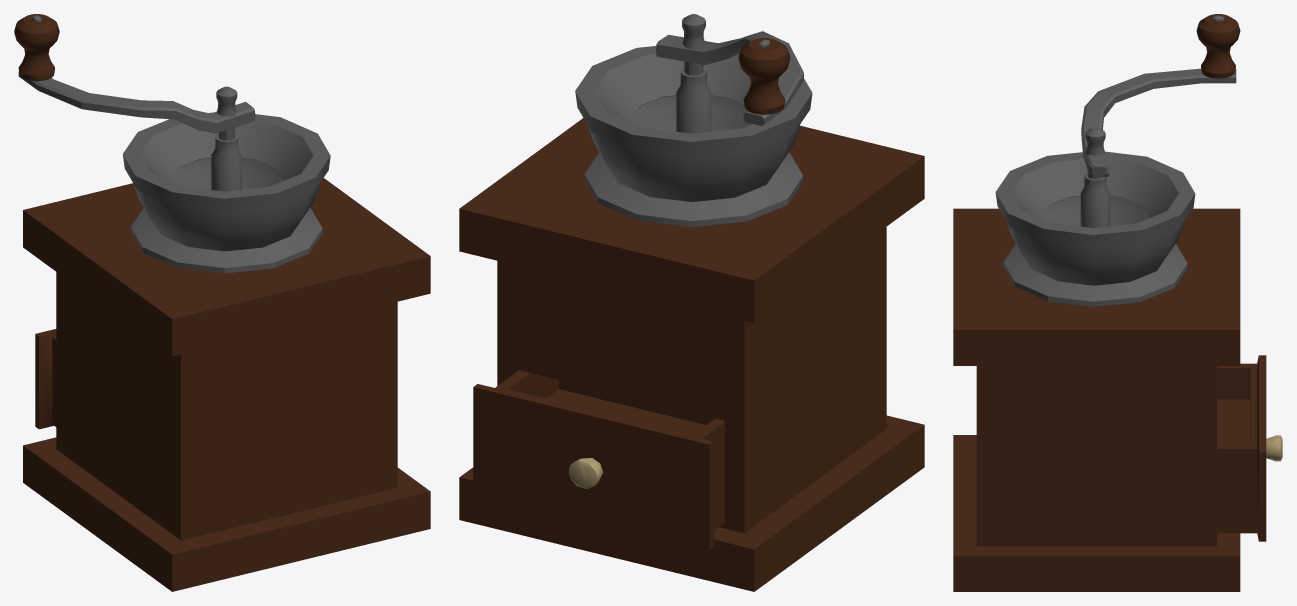
File: tumba.fbx
3 renders of one model, left to right at view 1: azimuth 30°, elevation 25°; view 2: azimuth 150°, elevation 25°; view 3: azimuth 270°, elevation 25°, orthographic. The views are drawn at different scales.
Parts seen in each view (by area): view 1: Cube, Circle, Cube.002, Cube.001; view 2: Cube, Circle, Cube.001, Cube.002; view 3: Cube, Circle, Cube.001, Cube.002.
Part boxes in pixels (x1,y1,x2,y2): Cube: (23, 178, 430, 591); Circle: (123, 86, 330, 273); Cube.002: (14, 14, 255, 133); Cube.001: (35, 329, 56, 429); Cube: (459, 118, 924, 591); Circle: (575, 14, 812, 227); Cube.001: (473, 370, 724, 550); Cube.002: (656, 31, 803, 125); Cube: (953, 208, 1240, 591); Circle: (995, 127, 1195, 306); Cube.001: (1217, 355, 1282, 541); Cube.002: (1081, 14, 1240, 176).
Size of the model in its own units: 2.94 by 4.83 by 3.16.
